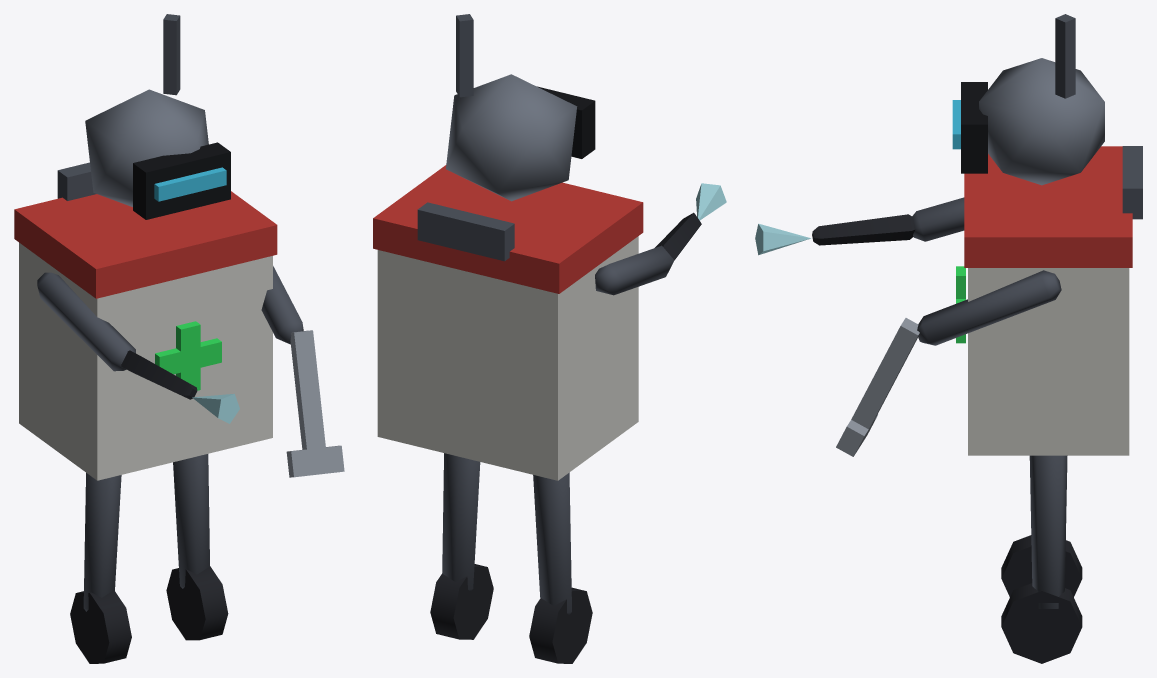
File: e_maschinen_reparaturbot.glb
3 views of the same model, side by side, from view 1: azimuth 30°, elevation 25°; view 2: azimuth 150°, elevation 25°; view 3: azimuth 270°, elevation 25° (orthographic). The views are drawn at different scales.
Visible parts, largest first — view 1: body; view 2: body; view 3: body.
Part boxes in pixels (x1=…): body: x1=14, y1=14, x2=344, y2=663; body: x1=373, y1=14, x2=726, y2=663; body: x1=755, y1=14, x2=1142, y2=663.
Bounding box in the file's own units: 0.7753 × 2.08 × 1.15.
